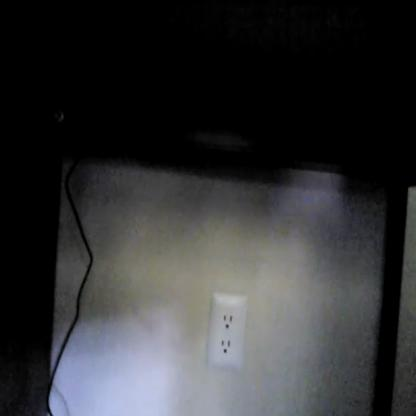OUTLET: (207, 292, 245, 368)
